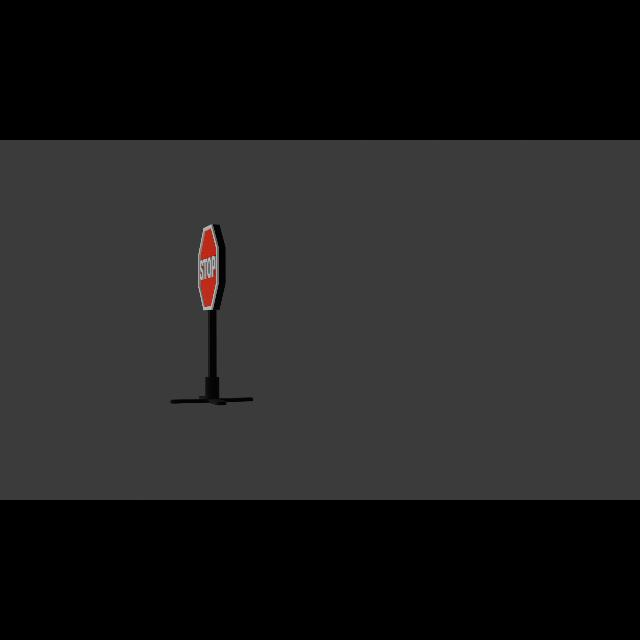sign_stop: (198, 225, 226, 312)
